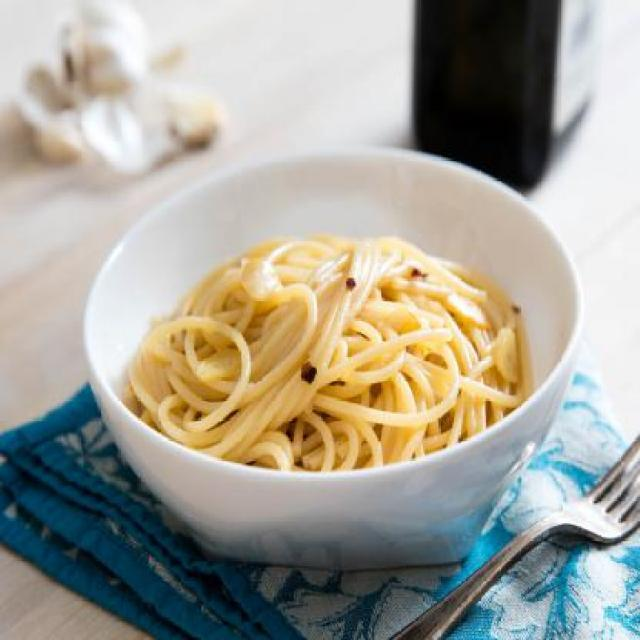Oil pasta: (75, 140, 597, 536)
